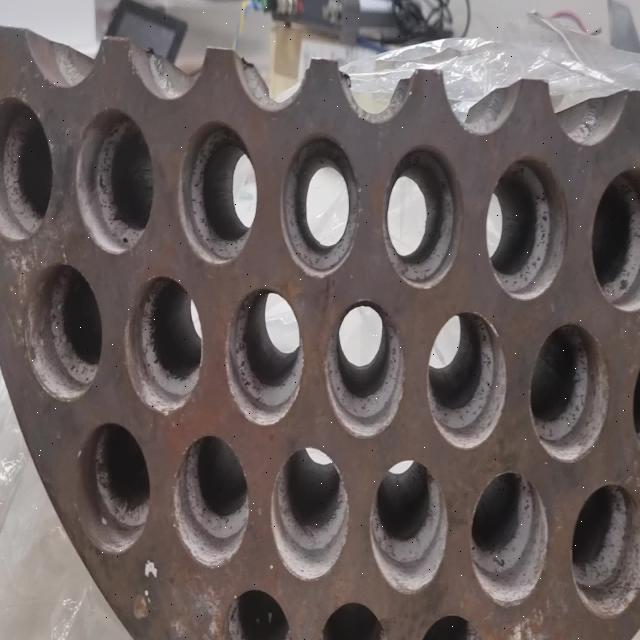Hole: (74, 106, 156, 255), (177, 120, 258, 266), (486, 156, 568, 300), (280, 132, 360, 278), (383, 143, 461, 289), (324, 299, 405, 439), (529, 322, 610, 462), (426, 310, 507, 450), (225, 286, 304, 426), (124, 275, 203, 415), (470, 469, 549, 608), (25, 261, 103, 401), (270, 445, 349, 582), (369, 459, 448, 594), (172, 434, 250, 568), (77, 420, 152, 554), (570, 482, 640, 620), (1, 96, 54, 242), (590, 168, 640, 312), (225, 586, 292, 640), (318, 599, 390, 640), (406, 613, 488, 640)
